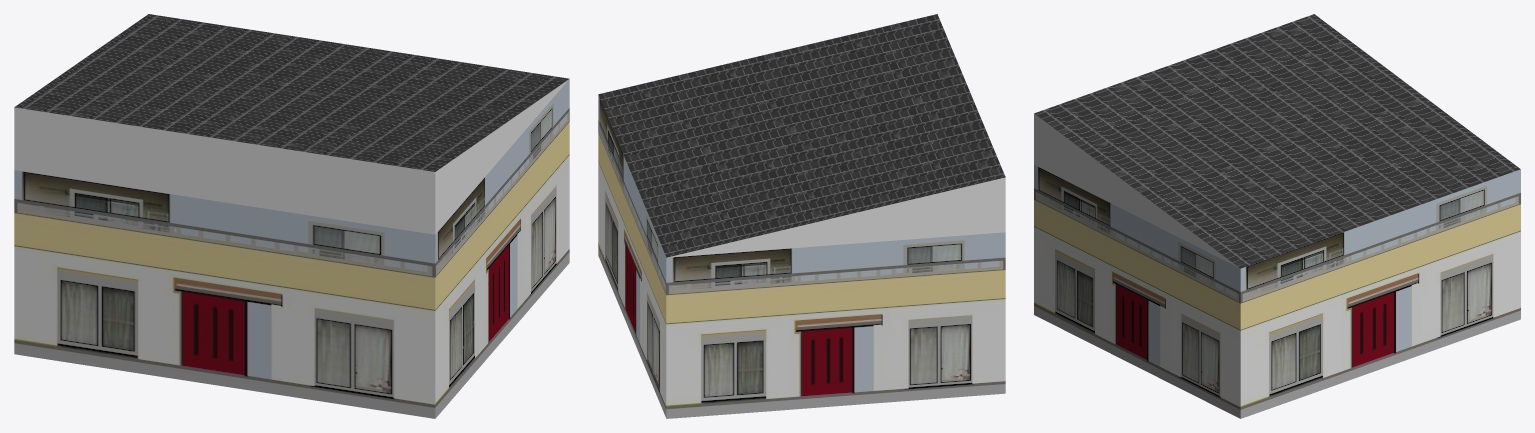
3 renders of one model, left to right at view 1: azimuth 30°, elevation 25°; view 2: azimuth 150°, elevation 25°; view 3: azimuth 270°, elevation 25°, orthographic. The views are drawn at different scales.
Visible parts, largest first — view 1: CityEngineMaterial_15_m, CityEngineMaterial_16_m, CityEngineMaterial_3_m; view 2: CityEngineMaterial_15_m, CityEngineMaterial_16_m, CityEngineMaterial_3_m; view 3: CityEngineMaterial_15_m, CityEngineMaterial_16_m, CityEngineMaterial_3_m.
Boxes of the visible parts, x1,y1,x2,y2 form: CityEngineMaterial_15_m: (14, 79, 569, 418); CityEngineMaterial_16_m: (14, 14, 569, 171); CityEngineMaterial_3_m: (14, 79, 568, 234); CityEngineMaterial_15_m: (598, 95, 1005, 418); CityEngineMaterial_16_m: (598, 14, 1005, 257); CityEngineMaterial_3_m: (667, 177, 1005, 257); CityEngineMaterial_15_m: (1034, 165, 1520, 418); CityEngineMaterial_16_m: (1034, 14, 1520, 268); CityEngineMaterial_3_m: (1034, 113, 1238, 267).
Size of the model in its own units: 23.67 by 10.95 by 23.94.
